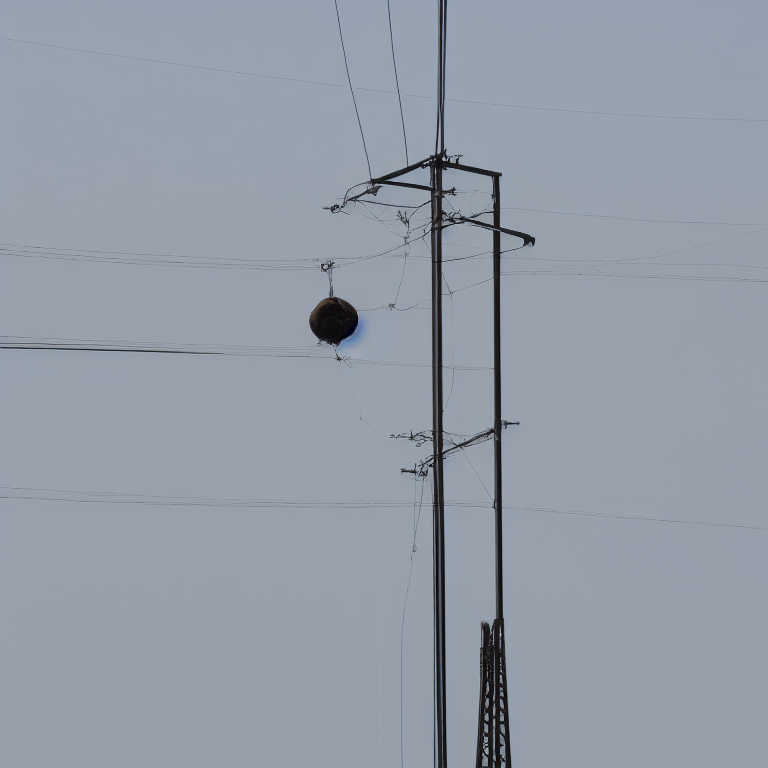nest: (310, 297, 358, 345)
